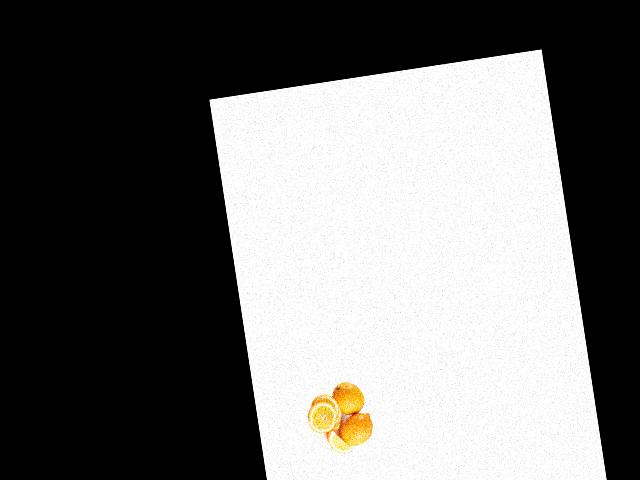lemon: (332, 380, 367, 420)
